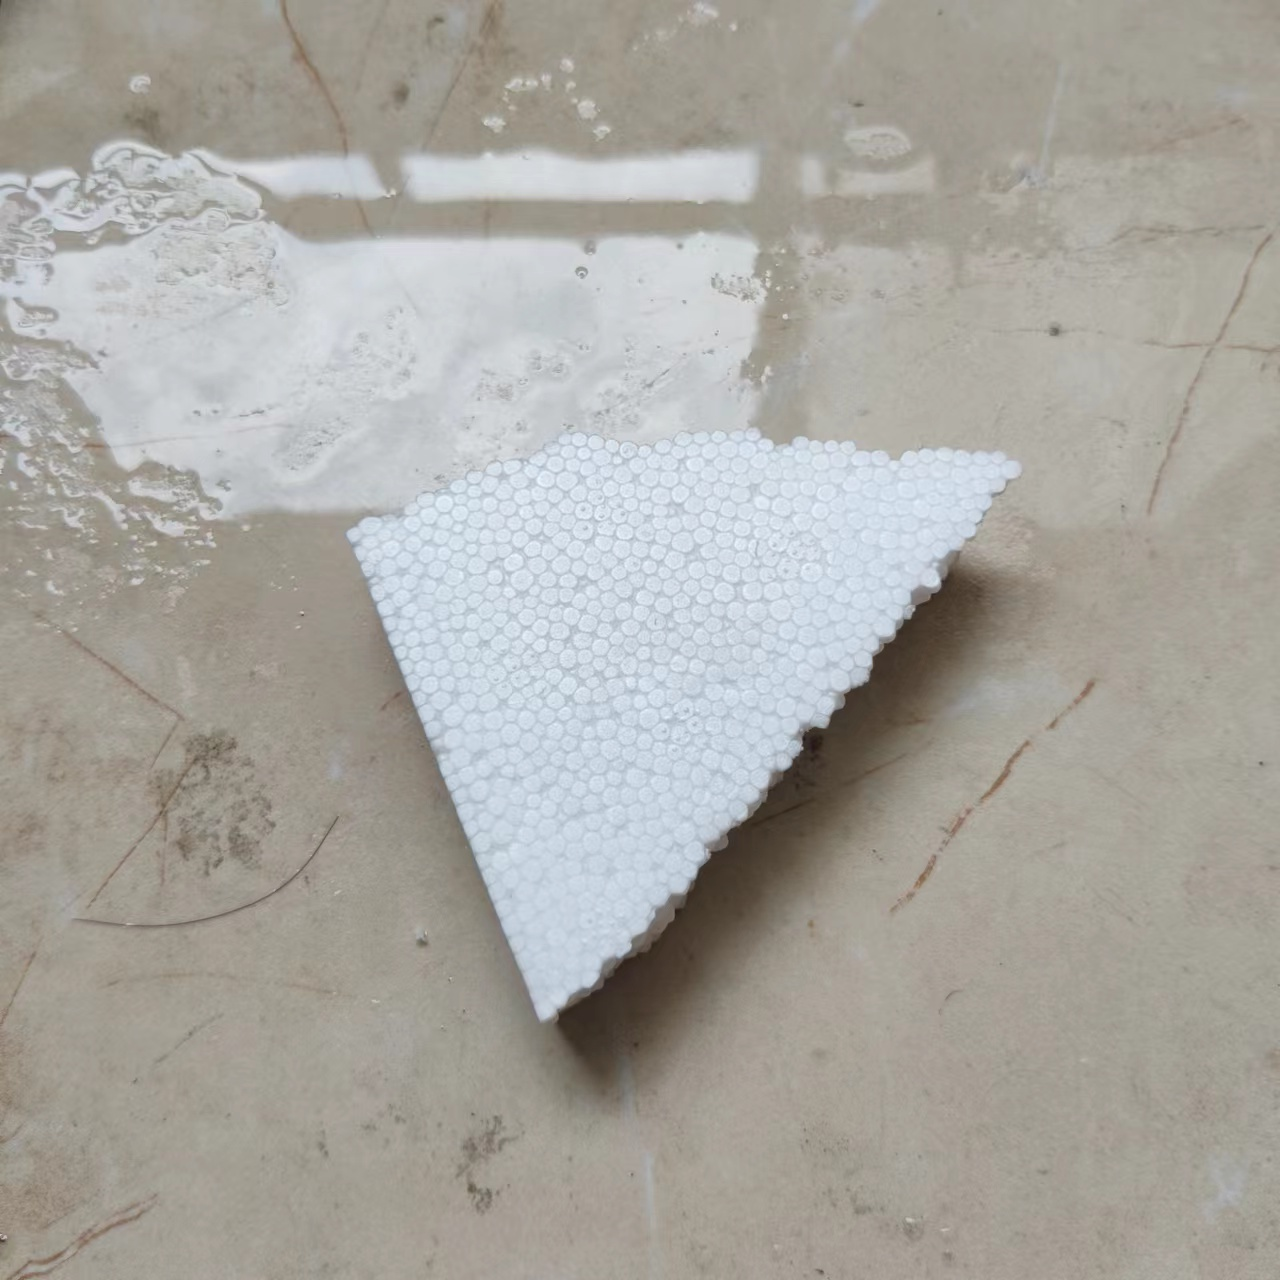5/可回收垃圾/泡沫: (339, 418, 1021, 1024)
